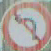Don't turn left: (3, 2, 50, 46)
